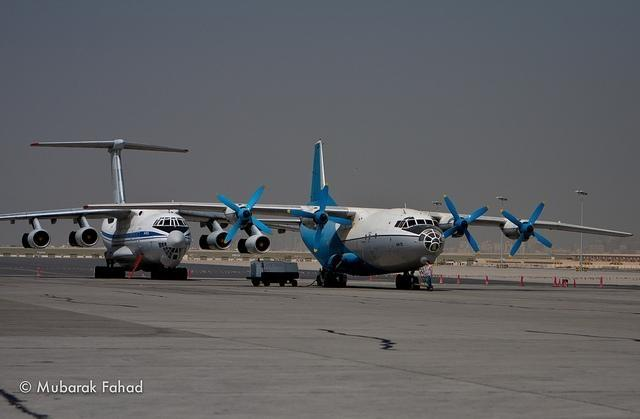truck: (247, 258, 301, 287)
